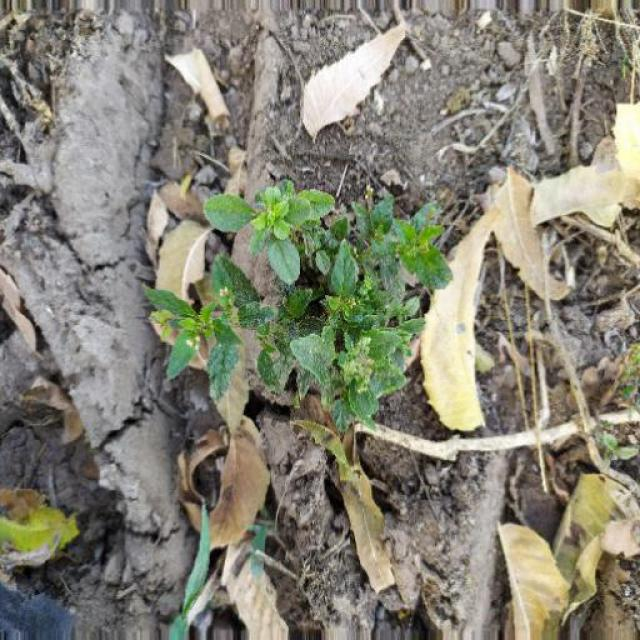weed: (156, 180, 445, 438)
